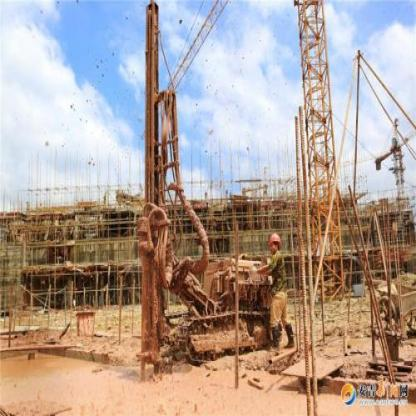helmet: (267, 231, 285, 255)
